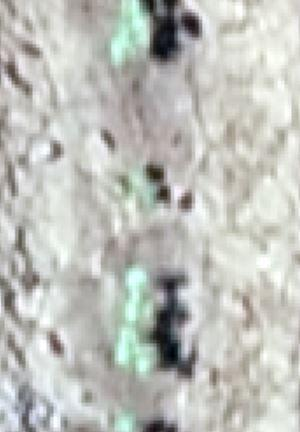cotton: (121, 330, 157, 372), (125, 268, 152, 317), (113, 24, 150, 54), (135, 170, 156, 202), (115, 410, 139, 431), (123, 1, 146, 19)
